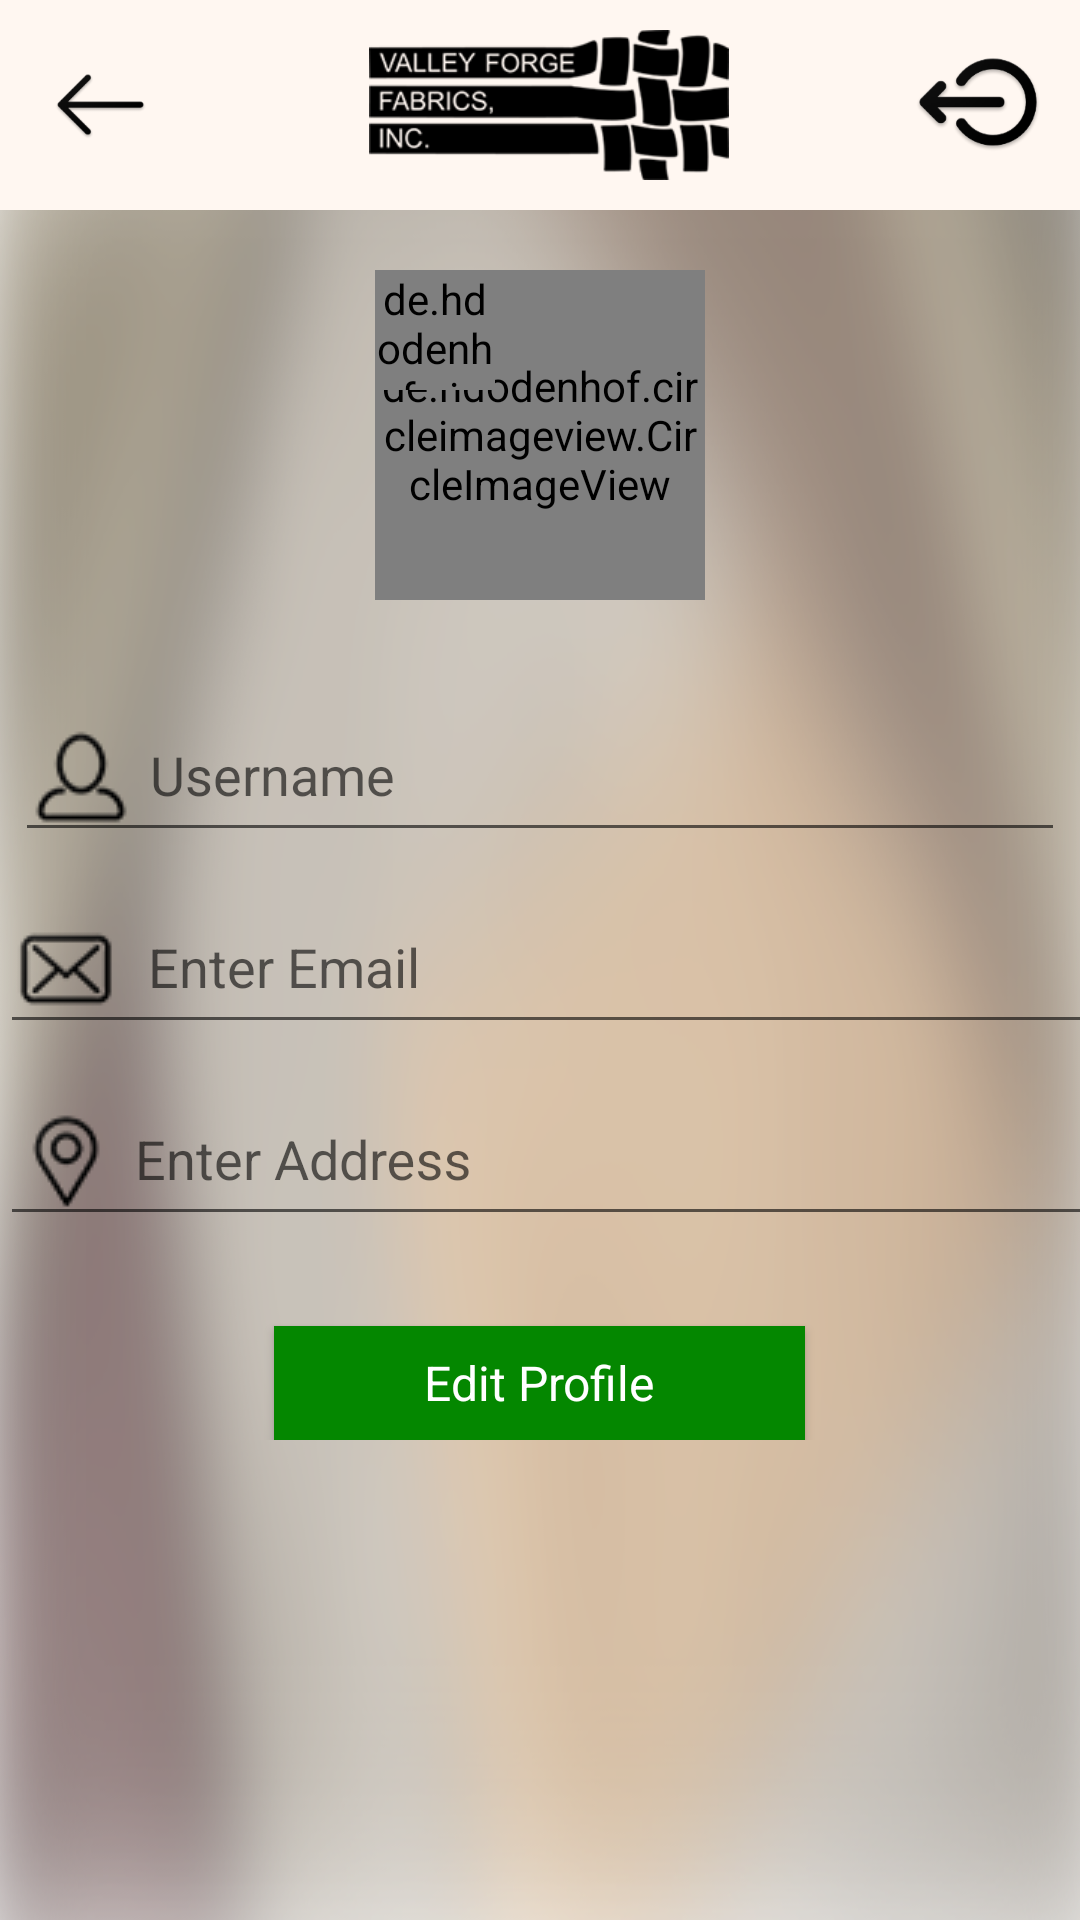

Where icons sit on this 1080w x 1920h app screen, as (x1, y1, x2, y2):
back: (57, 74, 144, 137)
